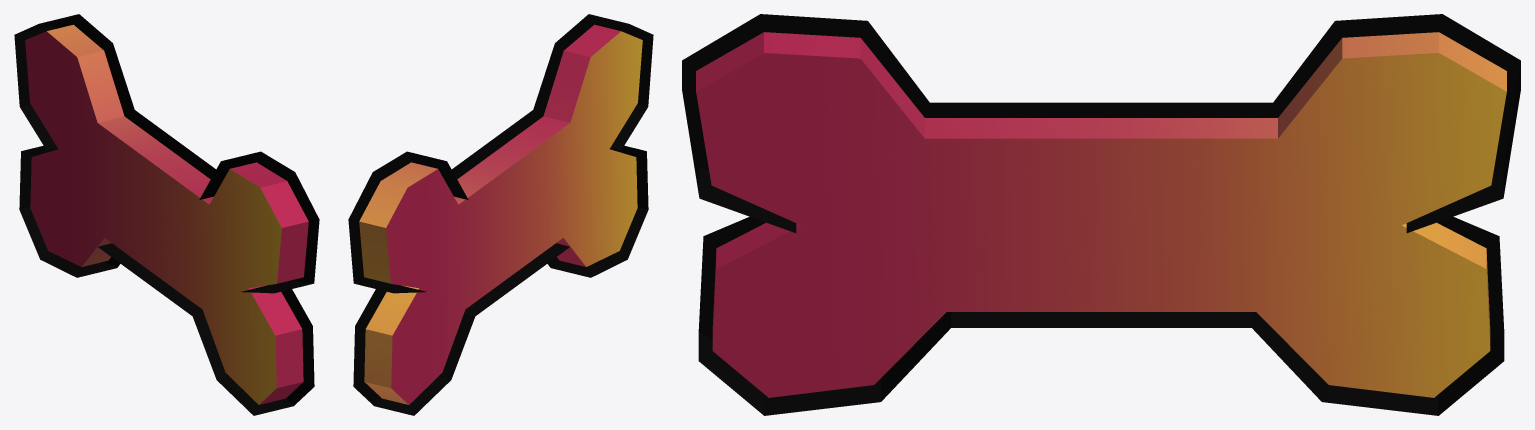
The model's file is bullet skull.fbx.
3 views of the same model, side by side, from view 1: azimuth 30°, elevation 25°; view 2: azimuth 150°, elevation 25°; view 3: azimuth 270°, elevation 25° (orthographic). The views are drawn at different scales.
Parts seen in each view (by area): view 1: EyeofRah_Bullet; view 2: EyeofRah_Bullet; view 3: EyeofRah_Bullet.
Boxes of the visible parts, x1,y1,x2,y2 form: EyeofRah_Bullet: (14,14,319,415); EyeofRah_Bullet: (348,14,653,415); EyeofRah_Bullet: (682,14,1520,415).
Size of the model in its own units: 13.46 by 63.97 by 131.
